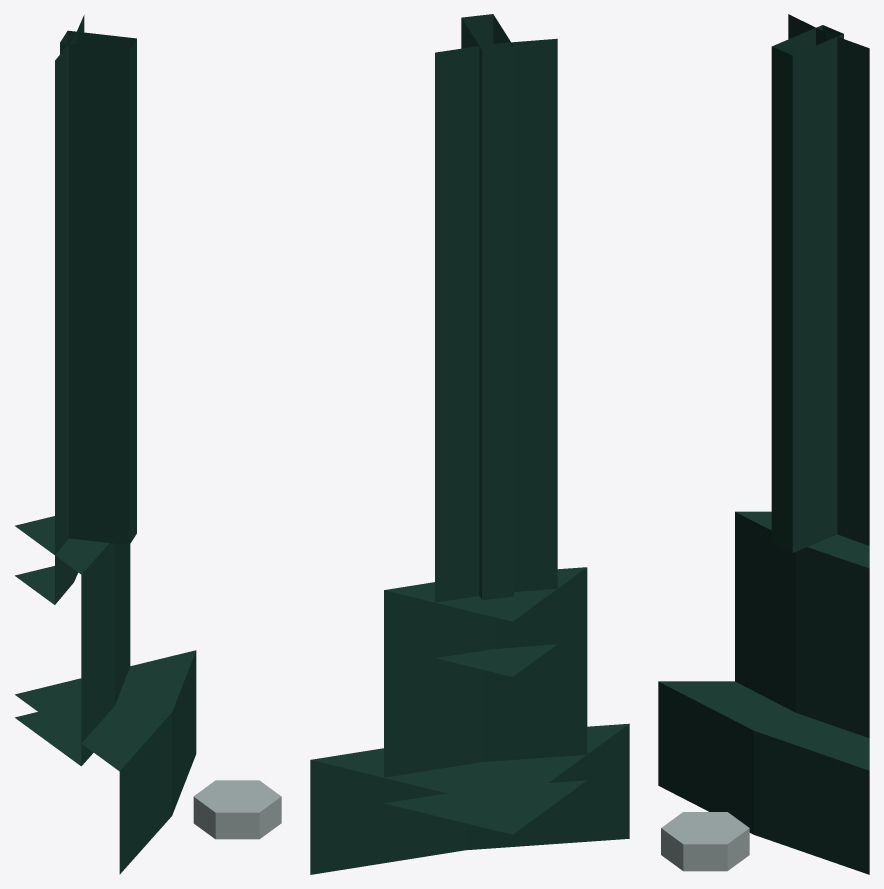
Rendered from cell_44.obj.
3 renders of one model, left to right at view 1: azimuth 30°, elevation 25°; view 2: azimuth 150°, elevation 25°; view 3: azimuth 270°, elevation 25°, orthographic. The views are drawn at different scales.
Size of the model in its own units: 0.2483 by 1 by 0.2483.
